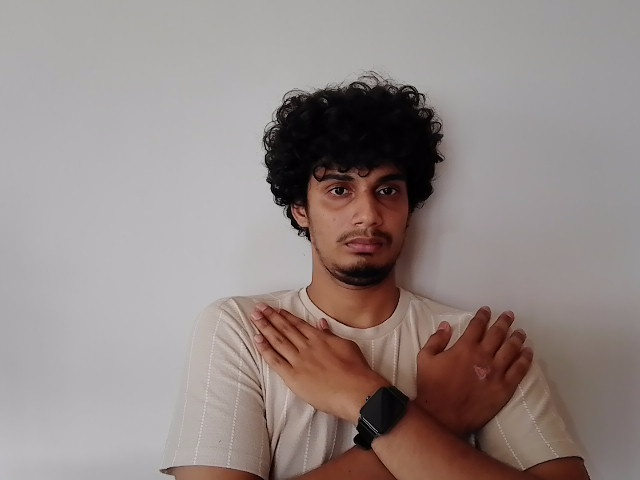relaxing: (249, 300, 541, 448)
